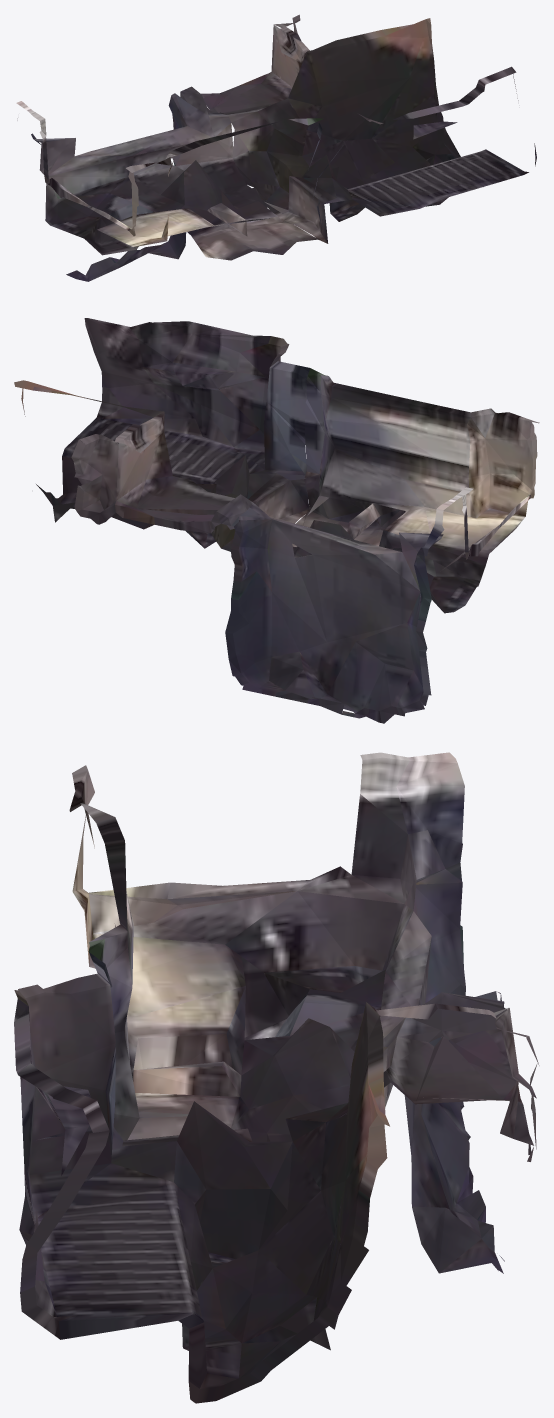
3 views of the same model, one above another, from view 1: azimuth 30°, elevation 25°; view 2: azimuth 150°, elevation 25°; view 3: azimuth 270°, elevation 25° (orthographic). The views are drawn at different scales.
Visible parts, largest first — view 1: Mesh_0; view 2: Mesh_0; view 3: Mesh_0.
Part boxes in pixels (left/top/right/bottom): Mesh_0: left=16, top=14, right=536, bottom=281; Mesh_0: left=14, top=318, right=539, bottom=723; Mesh_0: left=14, top=752, right=539, bottom=1403.
Bounding box in the file's own units: 31.21 × 14.56 × 17.94.
Materials: 1 (1 with a texture image).
